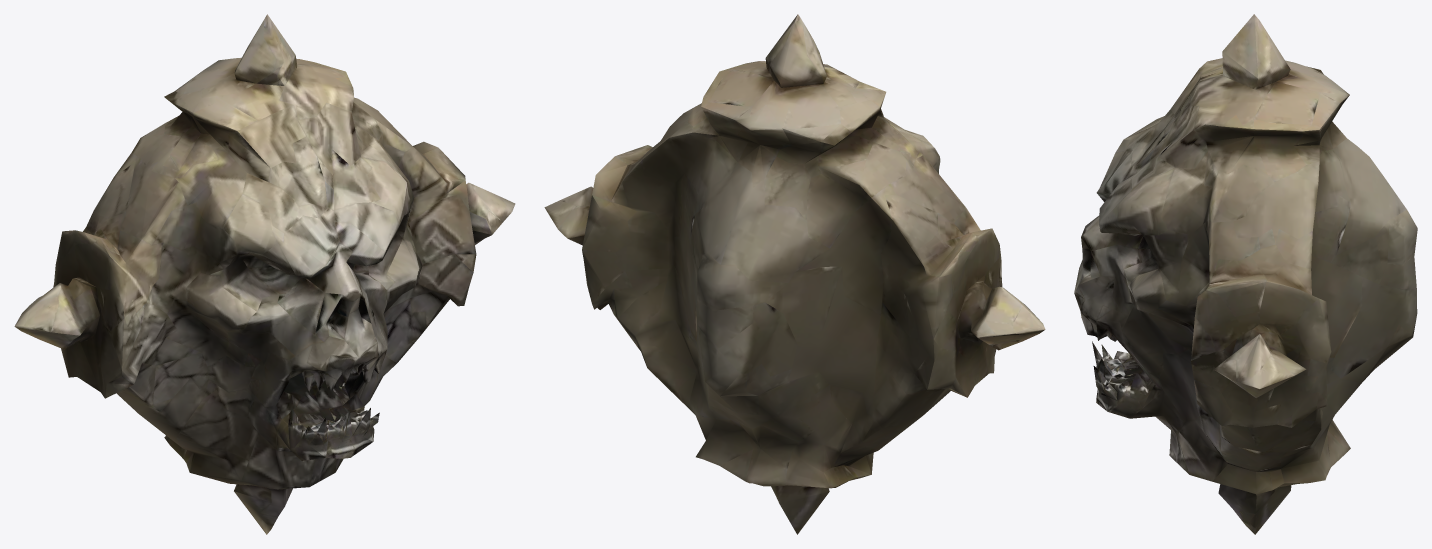
File: monster_67.glb
3 renders of one model, left to right at view 1: azimuth 30°, elevation 25°; view 2: azimuth 150°, elevation 25°; view 3: azimuth 270°, elevation 25°, orthographic.
Visible parts, largest first — view 1: Spirit_Shield_0711190905_texture; view 2: Spirit_Shield_0711190905_texture; view 3: Spirit_Shield_0711190905_texture.
Boxes of the visible parts, x1,y1,x2,y2 form: Spirit_Shield_0711190905_texture: (14,14,515,534); Spirit_Shield_0711190905_texture: (544,14,1045,534); Spirit_Shield_0711190905_texture: (1074,14,1417,534).
Size of the model in its own units: 2.01 by 2 by 1.19.
Materials: 1 (1 with a texture image).
